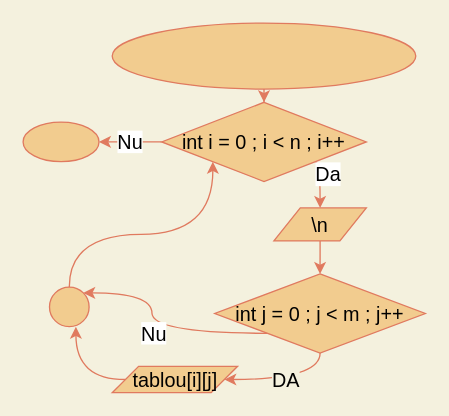
Some shapes in this 449 by 416 pixel diagram are drawn without their labels. Each missing label, with the centre of its shape:
"printm(int **tablou,int n,int m)" belongs at pixel 263 55.
"stop" belongs at pixel 60 141.
